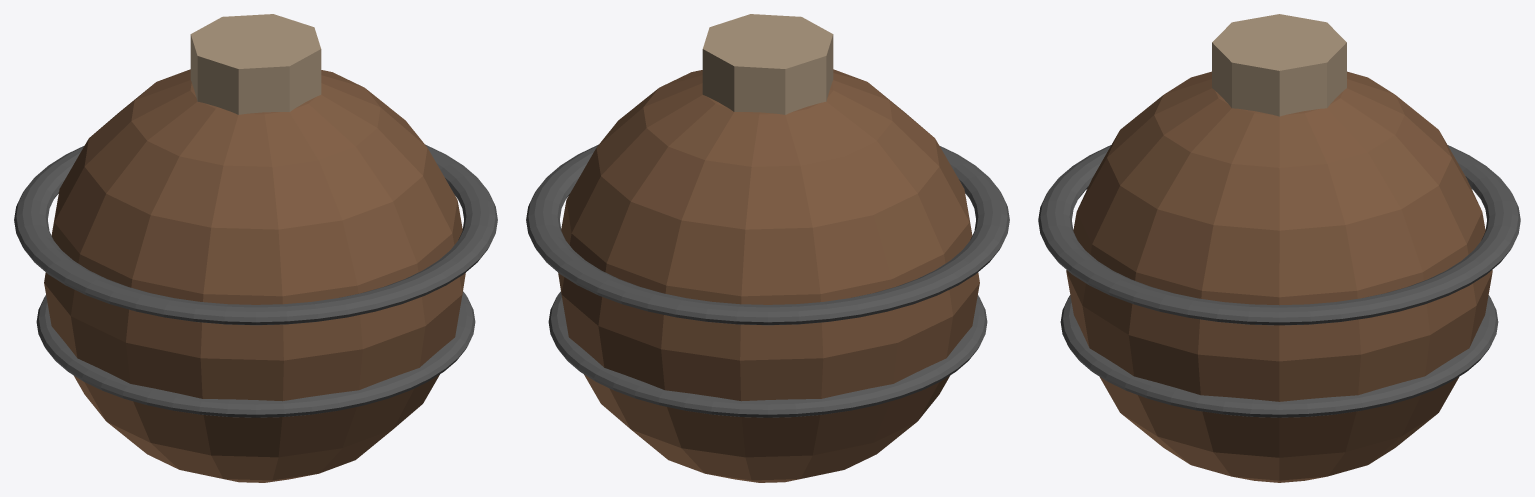
The model's file is BombaApestosa.fbx.
3 renders of one model, left to right at view 1: azimuth 30°, elevation 25°; view 2: azimuth 150°, elevation 25°; view 3: azimuth 270°, elevation 25°, orthographic.
Visible parts, largest first — view 1: Stink_Bomb_Base, Metal_Band_1, Stink_Bomb_Cork, Metal_Band_2; view 2: Stink_Bomb_Base, Metal_Band_1, Stink_Bomb_Cork, Metal_Band_2; view 3: Stink_Bomb_Base, Metal_Band_1, Stink_Bomb_Cork, Metal_Band_2.
Boxes of the visible parts, x1,y1,x2,y2 form: Stink_Bomb_Base: (44, 69, 465, 482); Metal_Band_1: (14, 144, 497, 325); Stink_Bomb_Cork: (190, 14, 321, 114); Metal_Band_2: (36, 291, 475, 417); Stink_Bomb_Base: (558, 69, 979, 482); Metal_Band_1: (526, 144, 1009, 325); Stink_Bomb_Cork: (702, 14, 833, 114); Metal_Band_2: (548, 291, 987, 417); Stink_Bomb_Base: (1066, 71, 1492, 482); Metal_Band_1: (1038, 145, 1520, 325); Stink_Bomb_Cork: (1212, 14, 1346, 116); Metal_Band_2: (1060, 295, 1498, 417).
Bounding box in the file's own units: 86 × 83 × 86.
